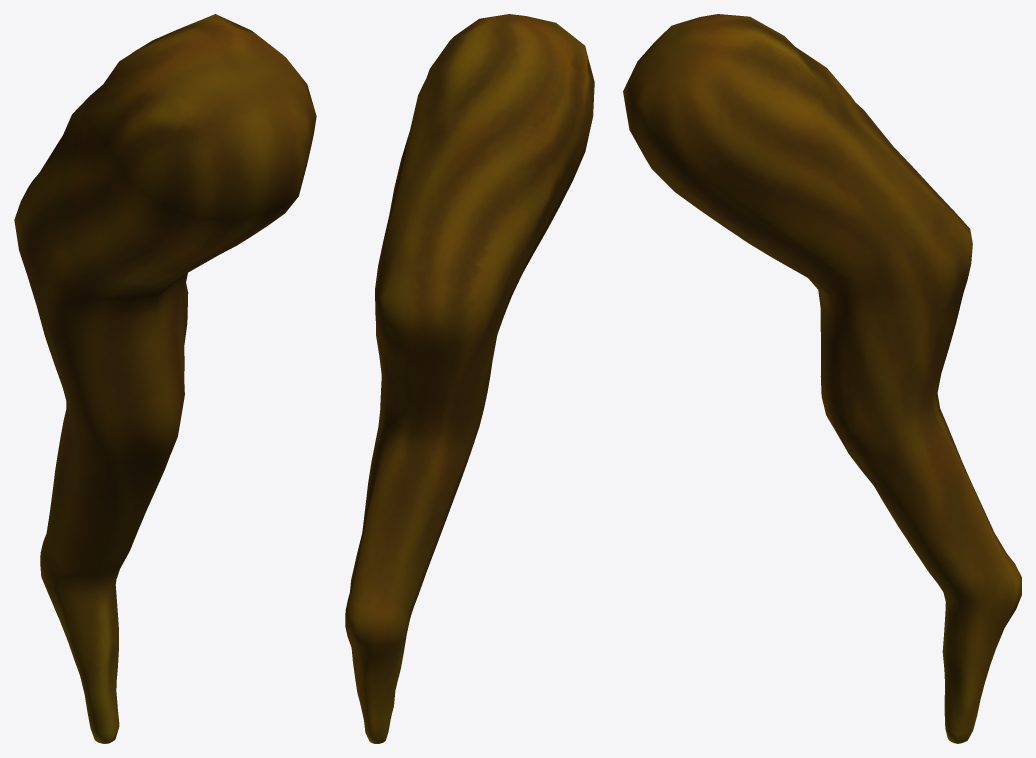
The picture shows the model from 3 angles, left to right: view 1: azimuth 30°, elevation 25°; view 2: azimuth 150°, elevation 25°; view 3: azimuth 270°, elevation 25°; orthographic projection. The views are drawn at different scales.
Parts seen in each view (by area): view 1: SM_Root_7_LOD0; view 2: SM_Root_7_LOD0; view 3: SM_Root_7_LOD0.
Boxes of the visible parts, left/top/right/bottom form: SM_Root_7_LOD0: left=14, top=14, right=316, bottom=743; SM_Root_7_LOD0: left=345, top=14, right=594, bottom=743; SM_Root_7_LOD0: left=623, top=14, right=1021, bottom=743.
Bounding box in the file's own units: 36.18 × 75.81 × 148.
Materials: 1 (1 with a texture image).
